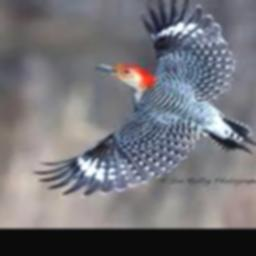Woodpecker: (33, 0, 256, 197)
